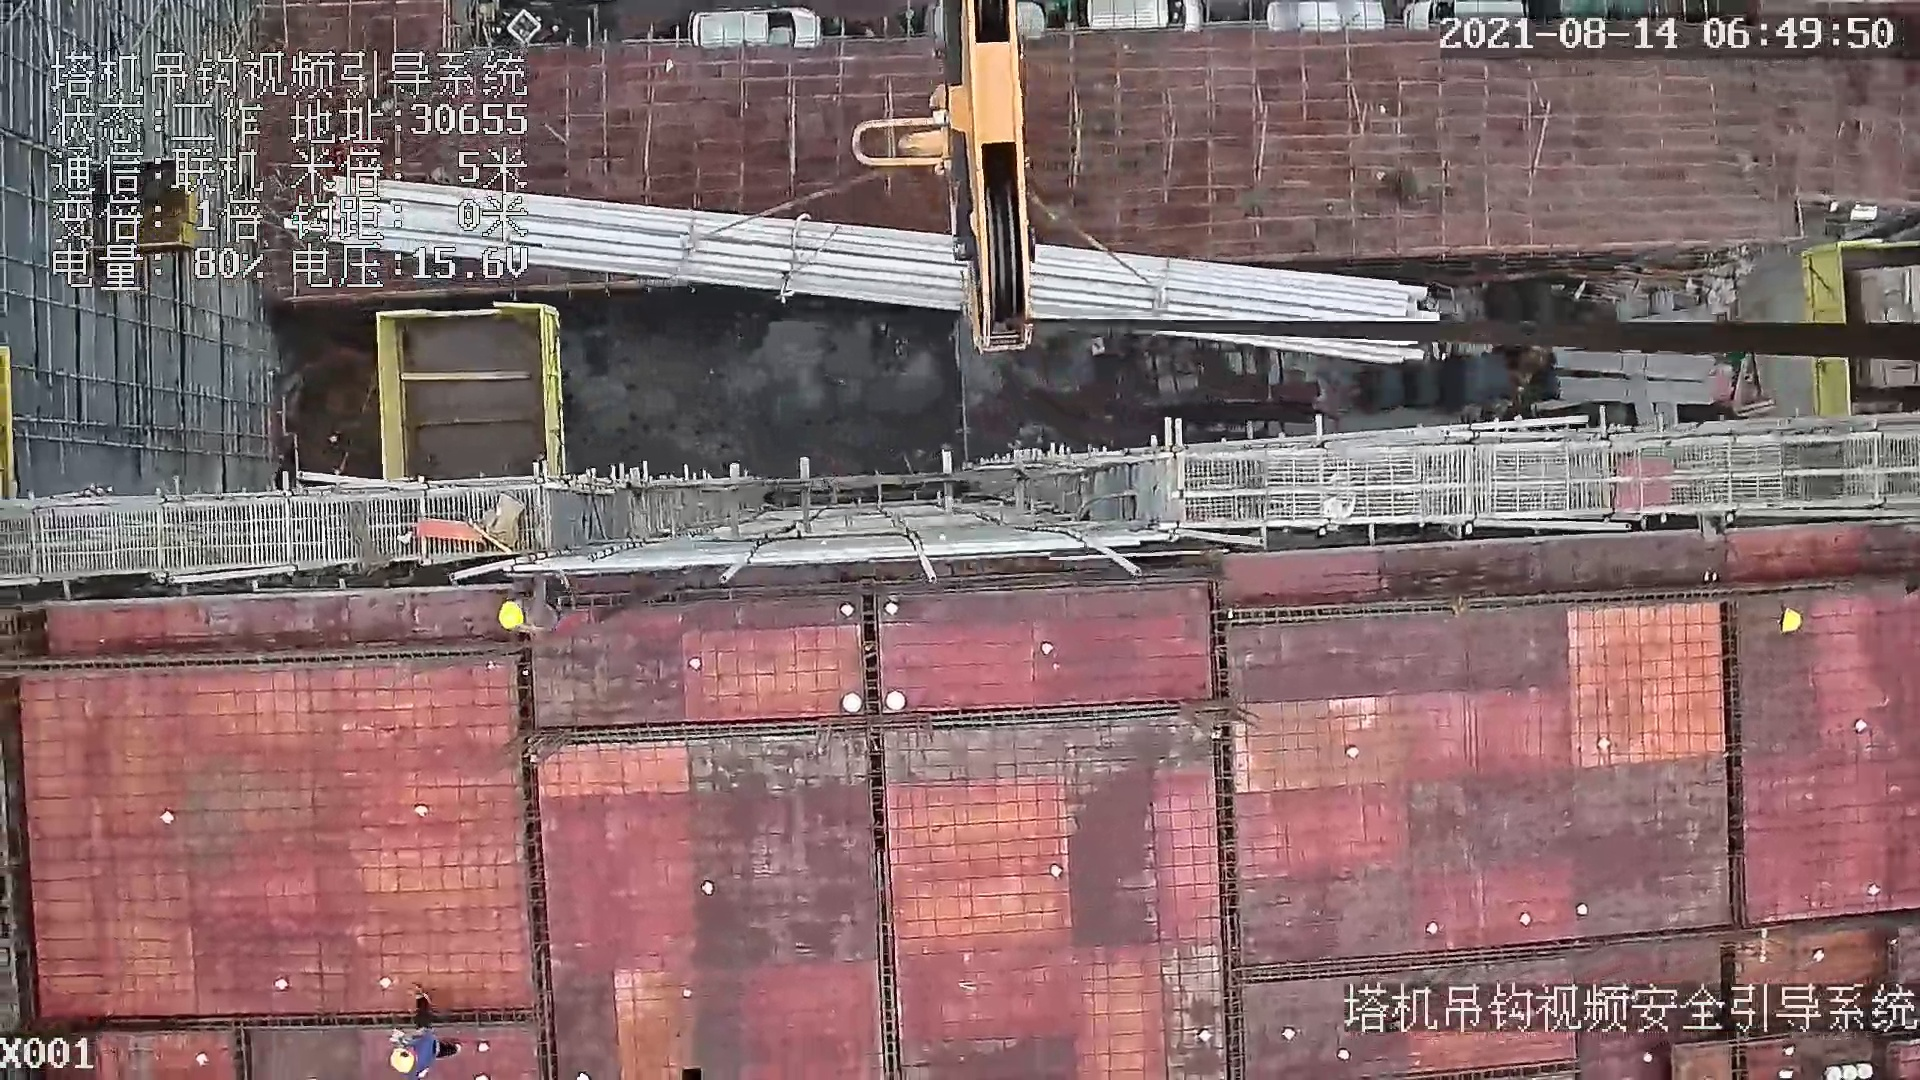helmet: (1769, 602, 1818, 645), (495, 599, 528, 637)
hook: (847, 8, 1035, 358)
person: (377, 1001, 465, 1080), (483, 572, 570, 642)
